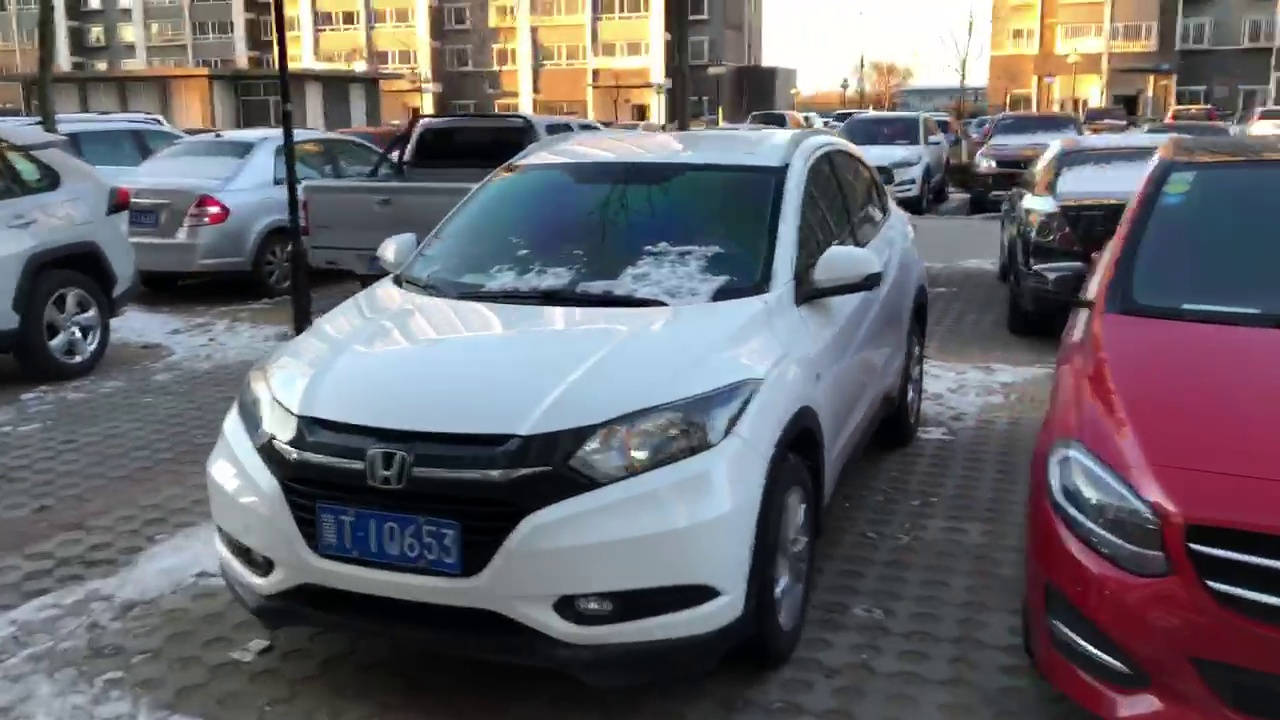plate: (315, 514, 466, 571)
